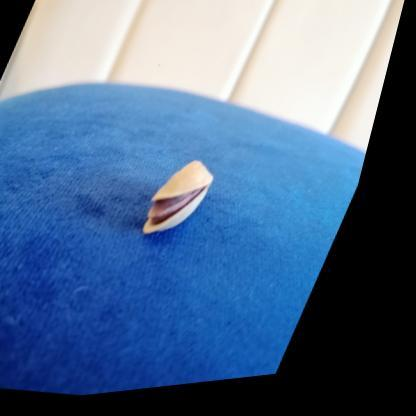pistachio: (140, 164, 213, 232)
